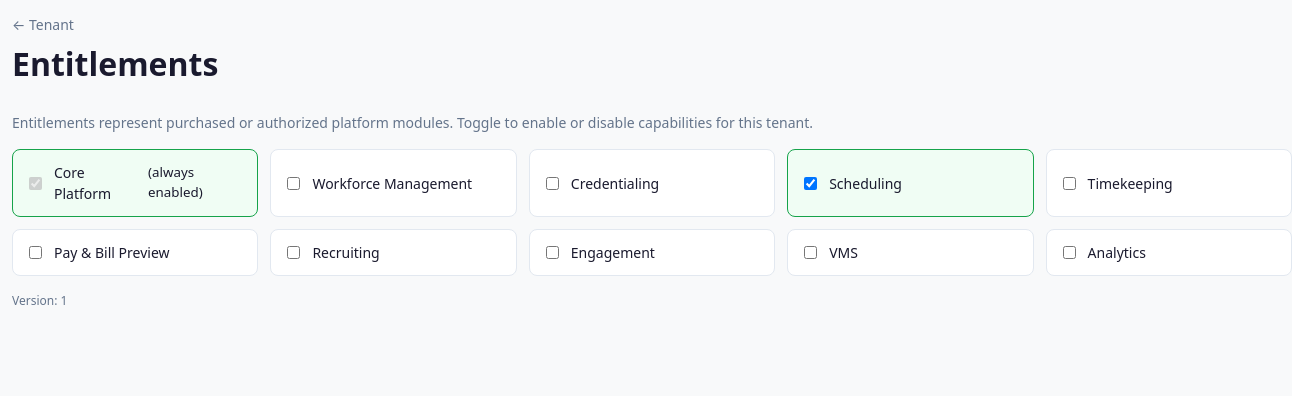
Entitlements › should show version conflict error
Step 1. Click the checkbox labelled "Credentialing" → (552, 183), box top-left (546, 176), bottom-right (559, 190)
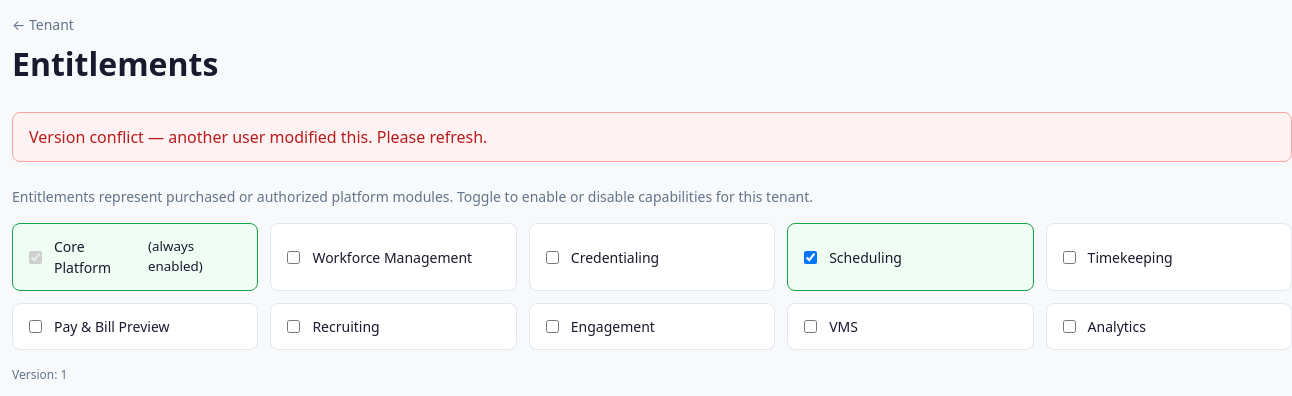
Expected: the text "Version conflict — another user modified this. Please refresh." is shown, top-left (12, 112), bottom-right (1291, 162)
